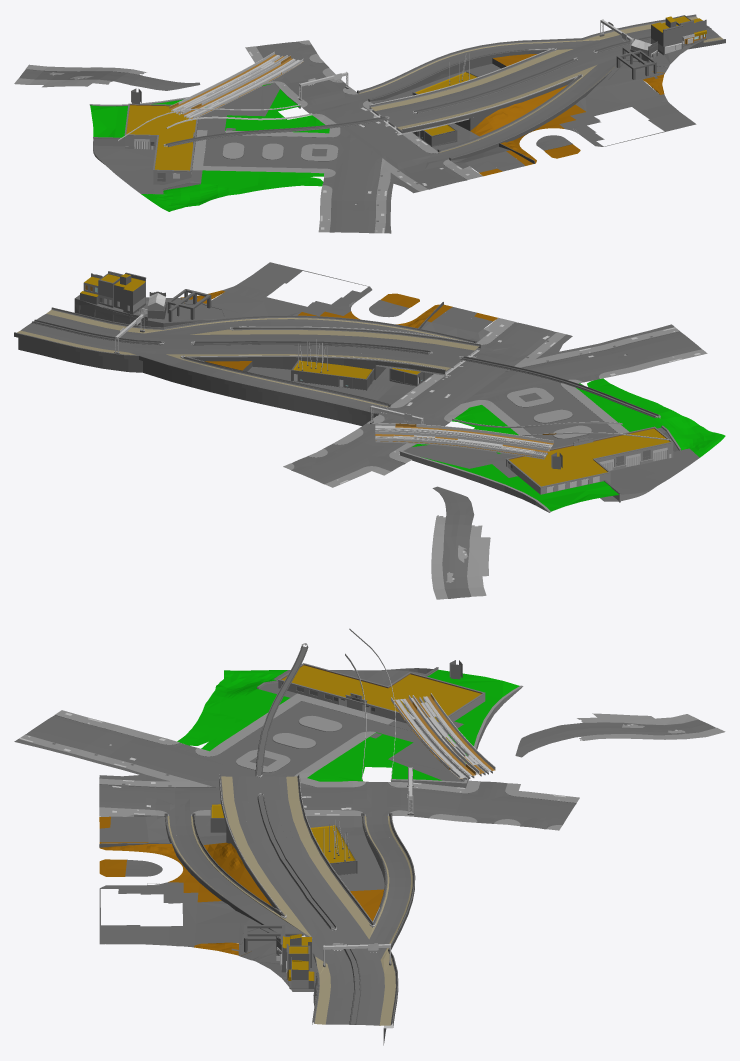
Rendered from brook_n_14.FBX.
The picture shows the model from 3 angles, top to bottom: view 1: azimuth 30°, elevation 25°; view 2: azimuth 150°, elevation 25°; view 3: azimuth 270°, elevation 25°; orthographic projection. The views are drawn at different scales.
Visible parts, largest first — view 1: null, unnamed; view 2: null, unnamed; view 3: null, unnamed.
Part boxes in pixels (x1,y1,x2,y2): null: (14,40,524,233); unnamed: (394,14,725,168); null: (283,307,725,599); unnamed: (14,262,473,420); null: (14,628,725,844); unnamed: (99,801,415,1045).
Size of the model in its own units: 375 by 36.82 by 317.
